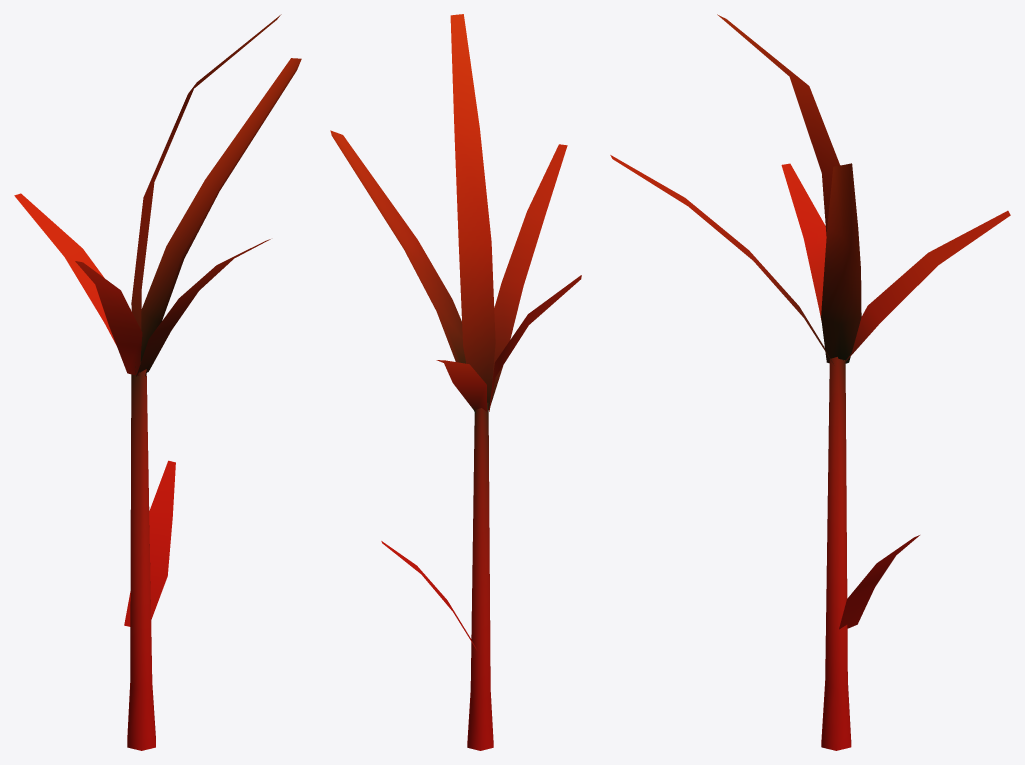
Rendered from SM_SugarCanePlants_6.fbx.
3 views of the same model, side by side, from view 1: azimuth 30°, elevation 25°; view 2: azimuth 150°, elevation 25°; view 3: azimuth 270°, elevation 25° (orthographic). The views are drawn at different scales.
Parts seen in each view (by area): view 1: SM_SugarCanePlants_6; view 2: SM_SugarCanePlants_6; view 3: SM_SugarCanePlants_6.
Part boxes in pixels (x1,y1,x2,y2): SM_SugarCanePlants_6: (14, 14, 301, 750); SM_SugarCanePlants_6: (330, 14, 581, 750); SM_SugarCanePlants_6: (610, 14, 1010, 750).
Size of the model in its own units: 0.3467 by 0.9806 by 0.4634.
